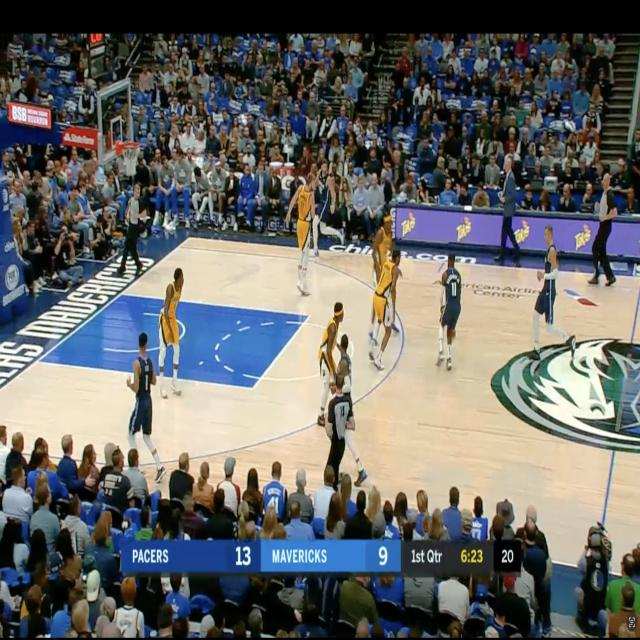no foul: (292, 293, 364, 480), (364, 206, 397, 372)
